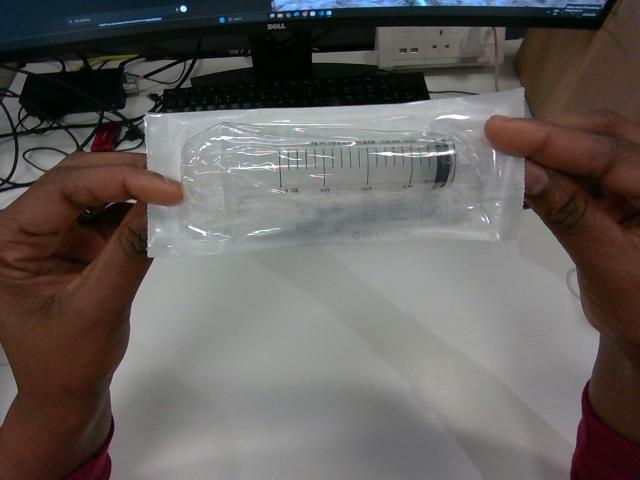syringe: (146, 89, 523, 256)
